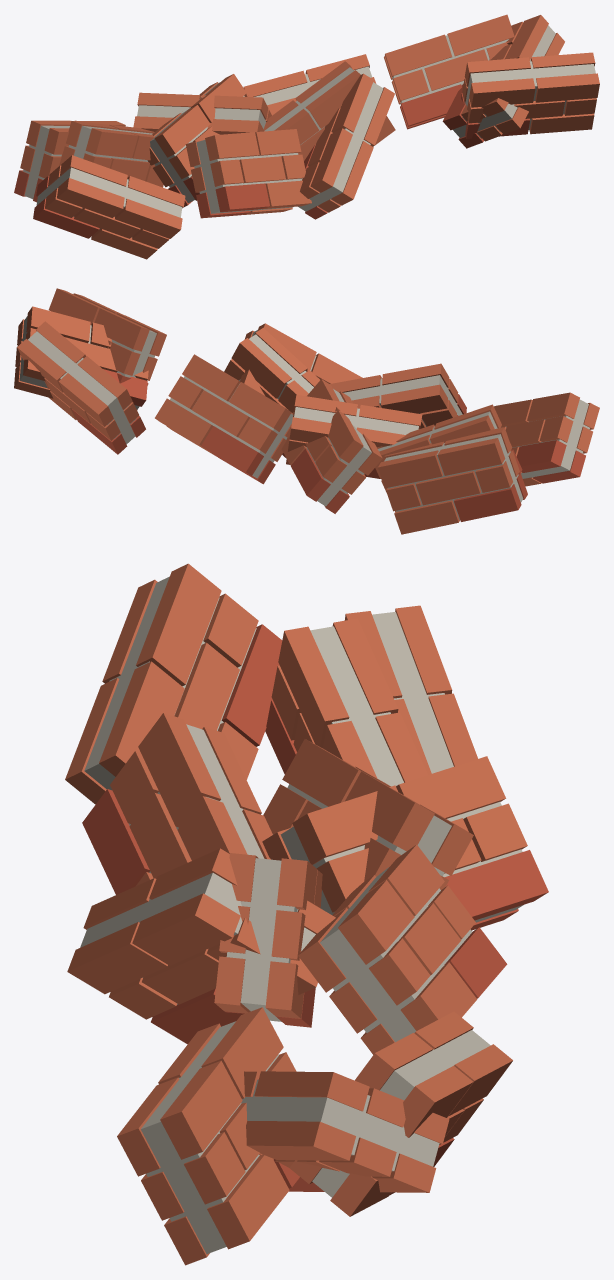
File: bld_halfwall_a_broken.glb
The picture shows the model from 3 angles, top to bottom: view 1: azimuth 30°, elevation 25°; view 2: azimuth 150°, elevation 25°; view 3: azimuth 270°, elevation 25°; orthographic projection. The views are drawn at different scales.
Visible parts, largest first — view 1: bld_halfwall_a_chunk_01, bld_halfwall_a_chunk_04, bld_halfwall_a_chunk_10, bld_halfwall_a_chunk_12, bld_halfwall_a_chunk_07, bld_halfwall_a_chunk_05, bld_halfwall_a_chunk_11, bld_halfwall_a_chunk_02, bld_halfwall_a_chunk_08, bld_halfwall_a_chunk_06, bld_halfwall_a_chunk_03, bld_halfwall_a_chunk_09; view 2: bld_halfwall_a_chunk_03, bld_halfwall_a_chunk_09, bld_halfwall_a_chunk_12, bld_halfwall_a_chunk_01, bld_halfwall_a_chunk_06, bld_halfwall_a_chunk_04, bld_halfwall_a_chunk_11, bld_halfwall_a_chunk_05, bld_halfwall_a_chunk_10, bld_halfwall_a_chunk_08, bld_halfwall_a_chunk_02, bld_halfwall_a_chunk_07; view 3: bld_halfwall_a_chunk_01, bld_halfwall_a_chunk_10, bld_halfwall_a_chunk_09, bld_halfwall_a_chunk_07, bld_halfwall_a_chunk_04, bld_halfwall_a_chunk_06, bld_halfwall_a_chunk_11, bld_halfwall_a_chunk_02, bld_halfwall_a_chunk_12, bld_halfwall_a_chunk_08, bld_halfwall_a_chunk_05, bld_halfwall_a_chunk_03.
Part boxes in pixels (left/top/right/bottom): bld_halfwall_a_chunk_01: left=33, top=155, right=185, bottom=259; bld_halfwall_a_chunk_04: left=185, top=129, right=311, bottom=218; bld_halfwall_a_chunk_10: left=461, top=52, right=599, bottom=138; bld_halfwall_a_chunk_12: left=384, top=14, right=514, bottom=129; bld_halfwall_a_chunk_07: left=298, top=73, right=394, bottom=219; bld_halfwall_a_chunk_05: left=147, top=74, right=249, bottom=207; bld_halfwall_a_chunk_11: left=442, top=15, right=564, bottom=148; bld_halfwall_a_chunk_02: left=59, top=121, right=163, bottom=187; bld_halfwall_a_chunk_08: left=263, top=61, right=395, bottom=160; bld_halfwall_a_chunk_06: left=133, top=92, right=271, bottom=134; bld_halfwall_a_chunk_03: left=14, top=120, right=125, bottom=202; bld_halfwall_a_chunk_09: left=243, top=54, right=376, bottom=115; bld_halfwall_a_chunk_03: left=378, top=427, right=527, bottom=534; bld_halfwall_a_chunk_09: left=155, top=354, right=293, bottom=484; bld_halfwall_a_chunk_12: left=17, top=321, right=145, bottom=454; bld_halfwall_a_chunk_01: left=494, top=392, right=599, bottom=486; bld_halfwall_a_chunk_06: left=281, top=379, right=382, bottom=513; bld_halfwall_a_chunk_04: left=330, top=363, right=466, bottom=428; bld_halfwall_a_chunk_11: left=14, top=306, right=148, bottom=410; bld_halfwall_a_chunk_05: left=286, top=394, right=422, bottom=479; bld_halfwall_a_chunk_10: left=48, top=288, right=166, bottom=385; bld_halfwall_a_chunk_08: left=224, top=328, right=319, bottom=458; bld_halfwall_a_chunk_02: left=375, top=404, right=522, bottom=511; bld_halfwall_a_chunk_07: left=239, top=323, right=362, bottom=395; bld_halfwall_a_chunk_01: left=65, top=563, right=282, bottom=804; bld_halfwall_a_chunk_10: left=117, top=1007, right=299, bottom=1265; bld_halfwall_a_chunk_09: left=298, top=844, right=507, bottom=1054; bld_halfwall_a_chunk_07: left=67, top=848, right=335, bottom=1044; bld_halfwall_a_chunk_04: left=82, top=713, right=272, bottom=894; bld_halfwall_a_chunk_06: left=262, top=756, right=548, bottom=930; bld_halfwall_a_chunk_11: left=241, top=1071, right=449, bottom=1192; bld_halfwall_a_chunk_02: left=265, top=618, right=427, bottom=786; bld_halfwall_a_chunk_12: left=289, top=1011, right=512, bottom=1216; bld_halfwall_a_chunk_08: left=214, top=853, right=322, bottom=1027; bld_halfwall_a_chunk_05: left=263, top=739, right=473, bottom=889; bld_halfwall_a_chunk_03: left=344, top=605, right=477, bottom=774.
Bounding box in the file's own units: 4.87 × 1.06 × 1.86.
